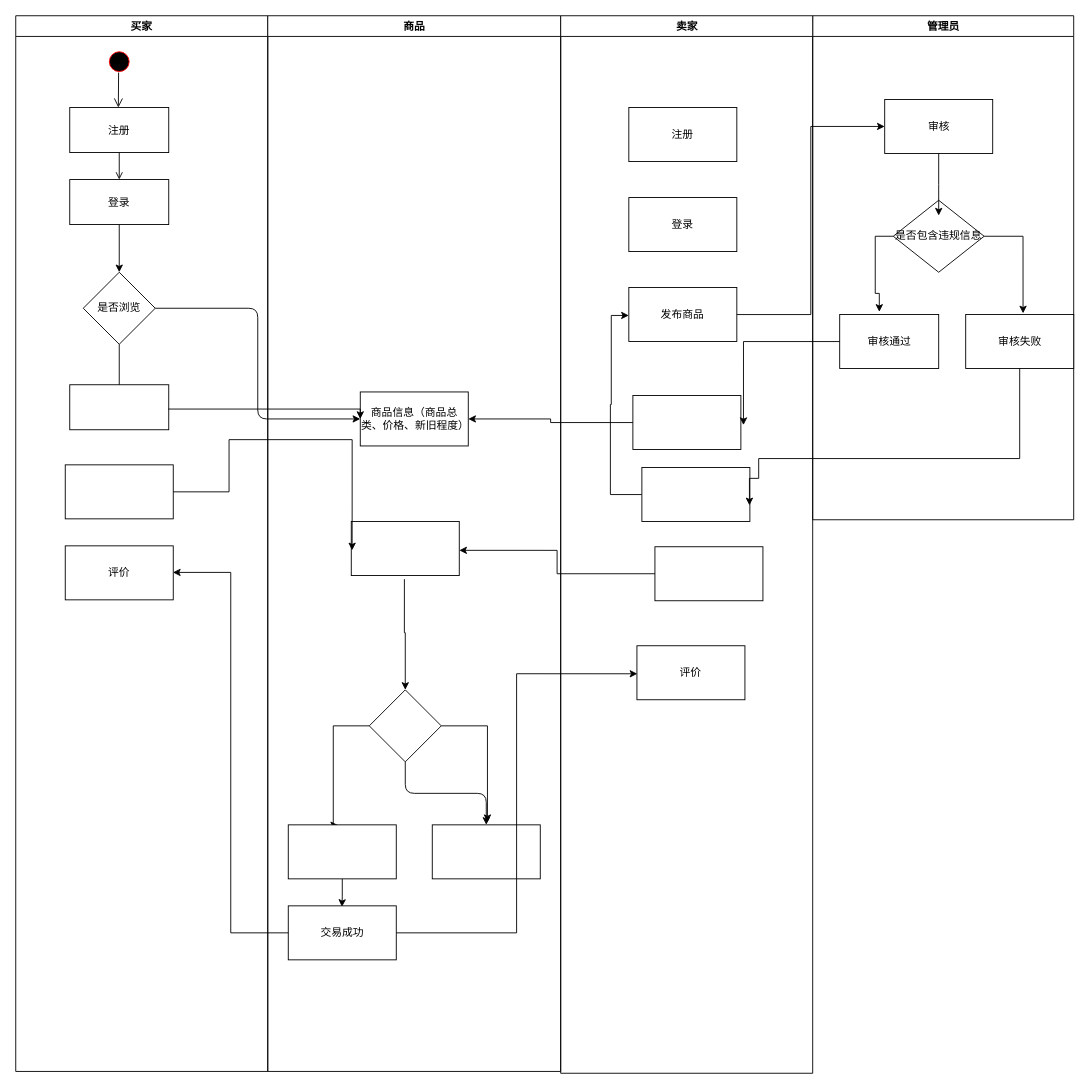
Some shapes in this 1090 by 1089 pixel diagram are drawn without their labels. The shapes that lost their labels are listed below. From the top down, each one's centre as x and y in pixels, then its label:
point 119,407: 查找
point 686,422: 发布成功
point 118,491: 与卖家联系
point 695,494: 发布失败
point 404,548: 协商（价格、交易地点）
point 708,573: 与买家联系
point 404,725: 是否协商成功
point 341,851: 等待交易
point 485,851: 取消交易
